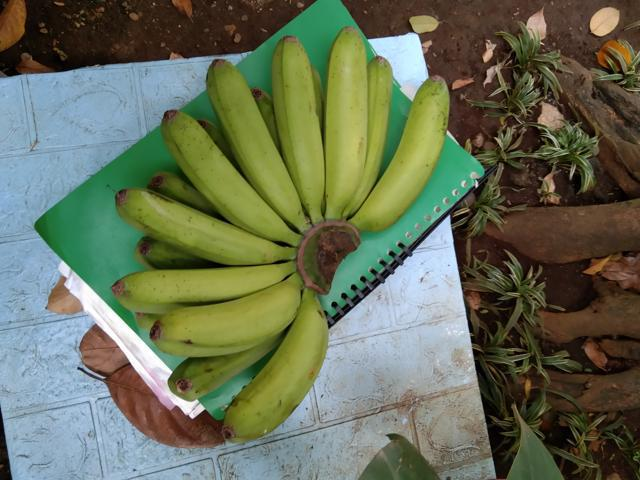freshunripe: (159, 104, 294, 241), (217, 298, 333, 450), (204, 54, 305, 222), (360, 73, 457, 246), (111, 185, 283, 262), (151, 275, 298, 357), (261, 32, 326, 213), (311, 24, 372, 214), (107, 254, 283, 310)
